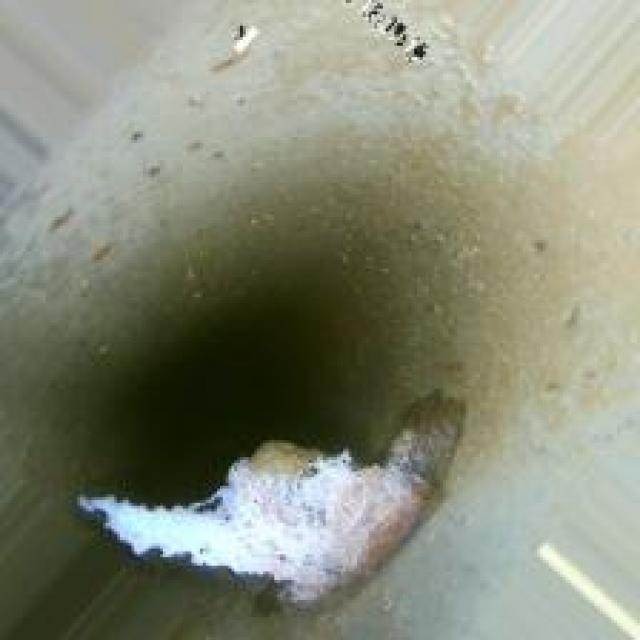ferrule: (168, 417, 472, 603)
